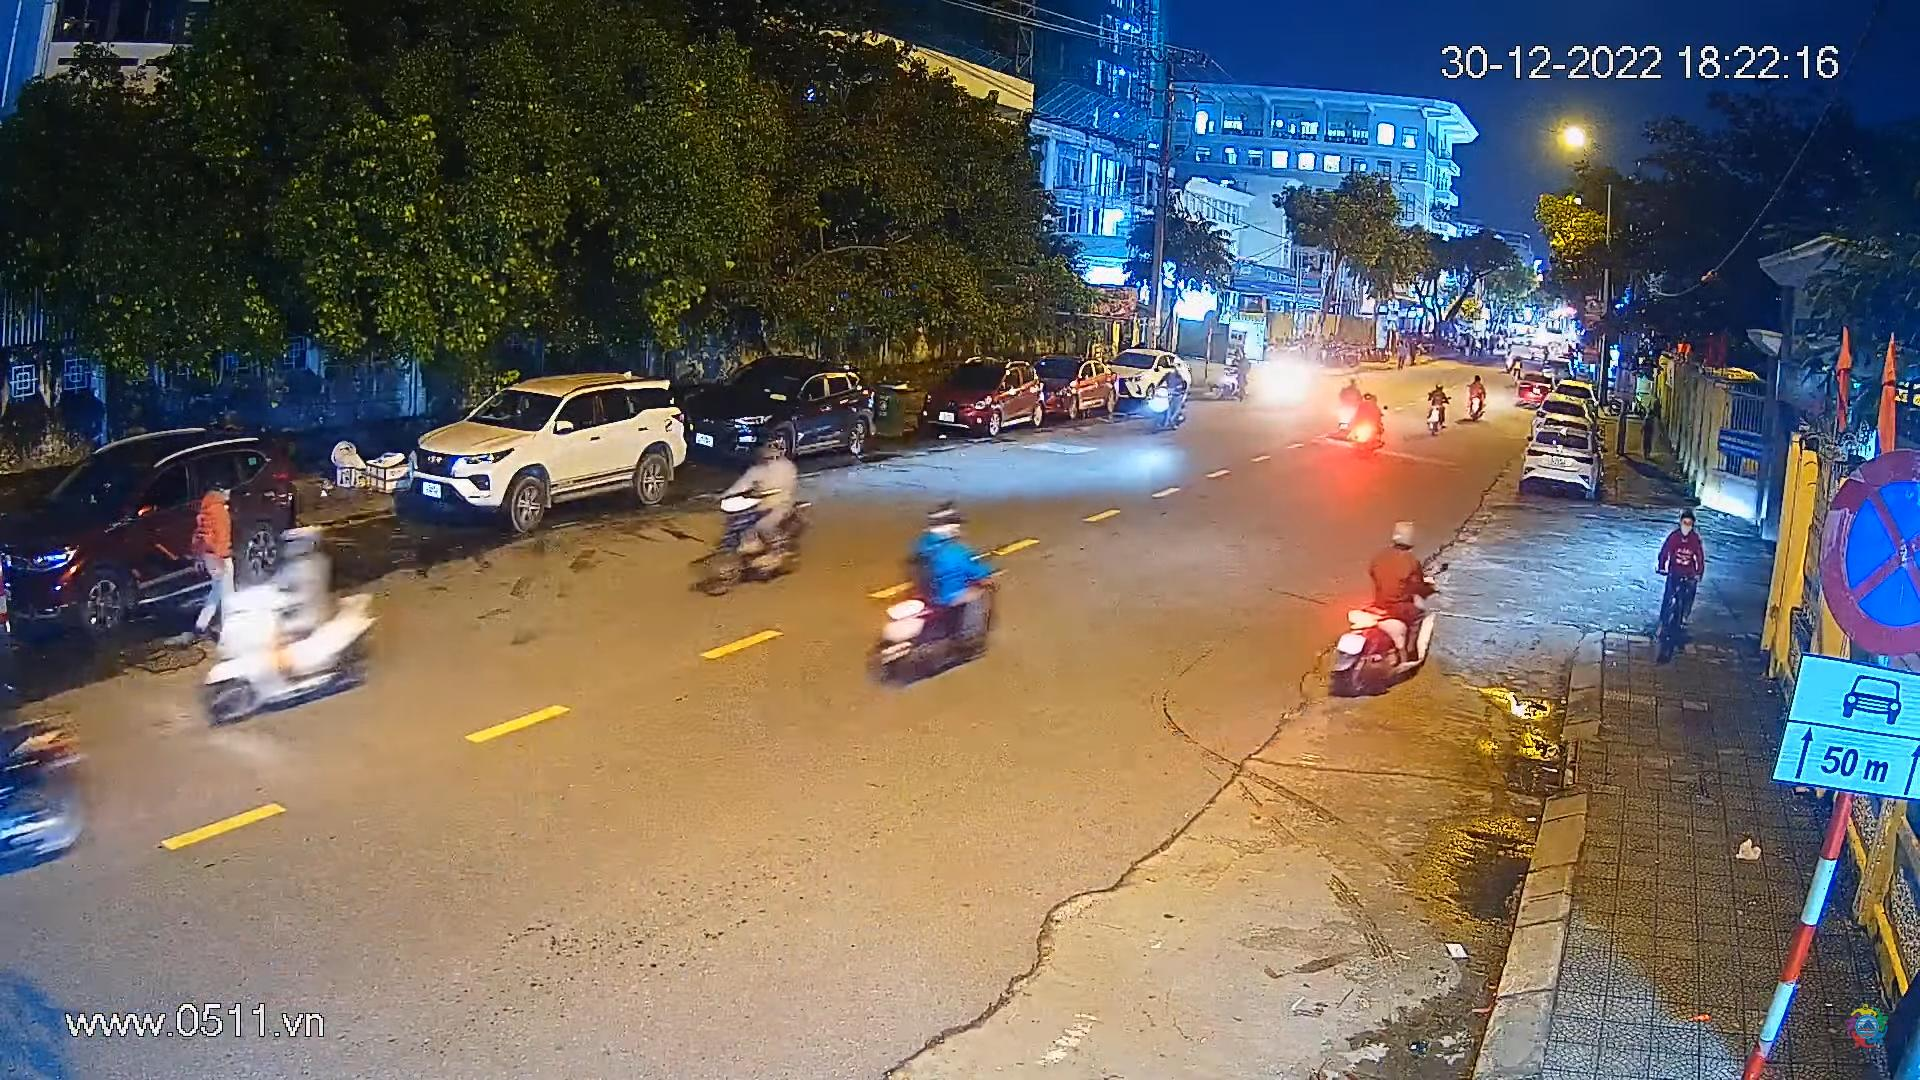bicycle: (1643, 501, 1714, 667)
car: (0, 421, 301, 645), (407, 367, 695, 545), (683, 347, 885, 484), (910, 355, 1052, 444), (1520, 410, 1601, 514), (1097, 340, 1201, 406), (1035, 351, 1126, 419), (1538, 386, 1592, 440), (1515, 369, 1552, 411)
motorcycle: (195, 518, 384, 735), (1317, 510, 1458, 708), (873, 501, 1014, 691), (680, 427, 822, 616), (1349, 392, 1391, 469), (1146, 364, 1189, 434), (1420, 377, 1455, 443), (1329, 378, 1361, 438), (1216, 345, 1249, 401), (1462, 372, 1489, 425)
